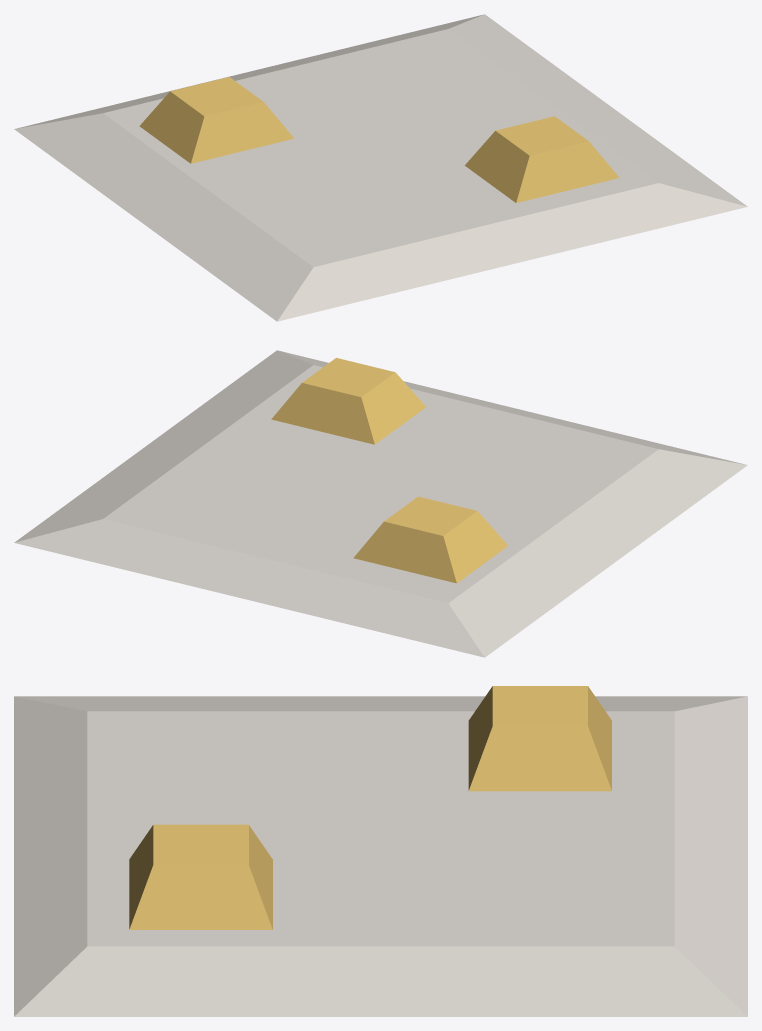
File: EggCubes.fbx
The picture shows the model from 3 angles, top to bottom: view 1: azimuth 30°, elevation 25°; view 2: azimuth 150°, elevation 25°; view 3: azimuth 270°, elevation 25°; orthographic projection. The views are drawn at different scales.
Visible parts, largest first — view 1: EggCubes1; view 2: EggCubes1; view 3: EggCubes1.
Boxes of the visible parts, bbox=[...] form: EggCubes1: bbox=[14, 14, 747, 321]; EggCubes1: bbox=[14, 350, 747, 657]; EggCubes1: bbox=[14, 686, 747, 1016].
Bounding box in the file's own units: 5.19 × 0.5859 × 5.02.
